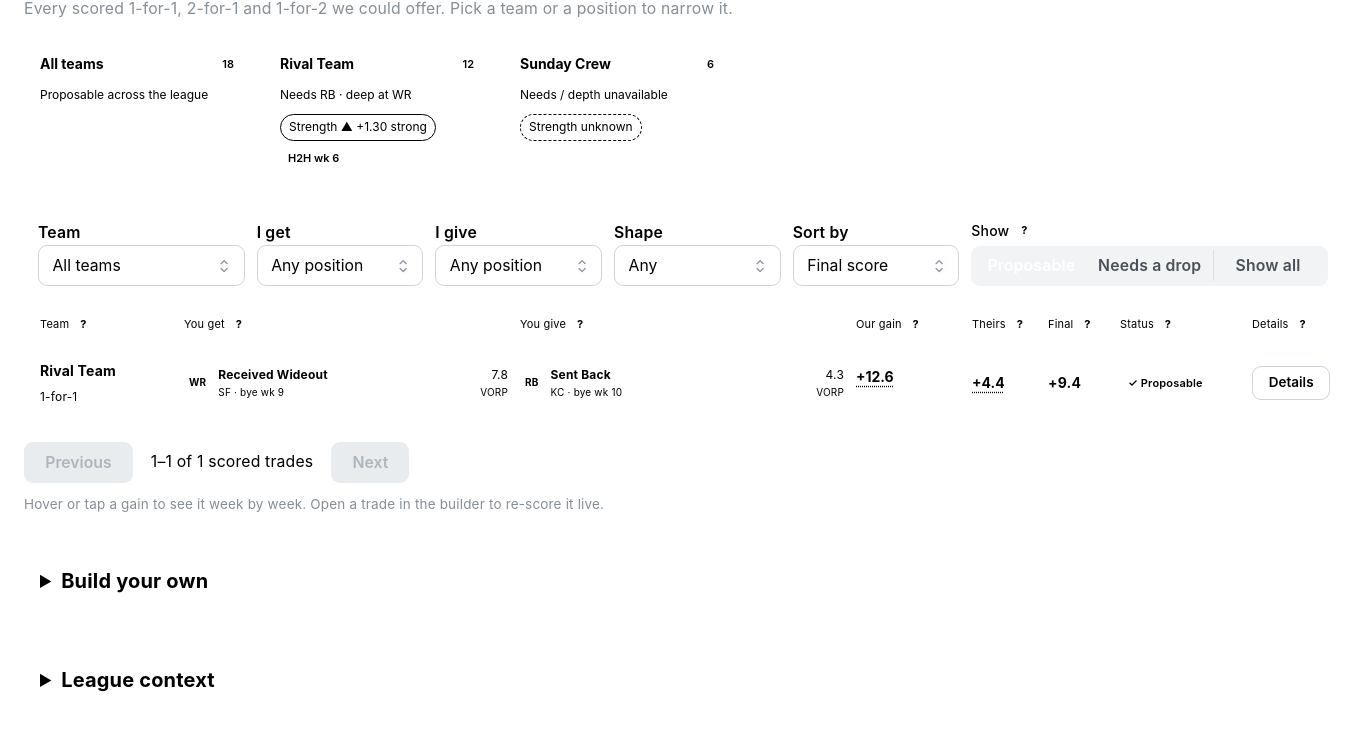
Test: mounts the finder, reports its unfiltered count and expands the collapsed page builder
The width and height of the screenshot is (1366, 739).
(page scrolled)
Click the button "Details": coordinates (1291, 383) x1=1252 y1=366 x2=1330 y2=400
(page scrolled)
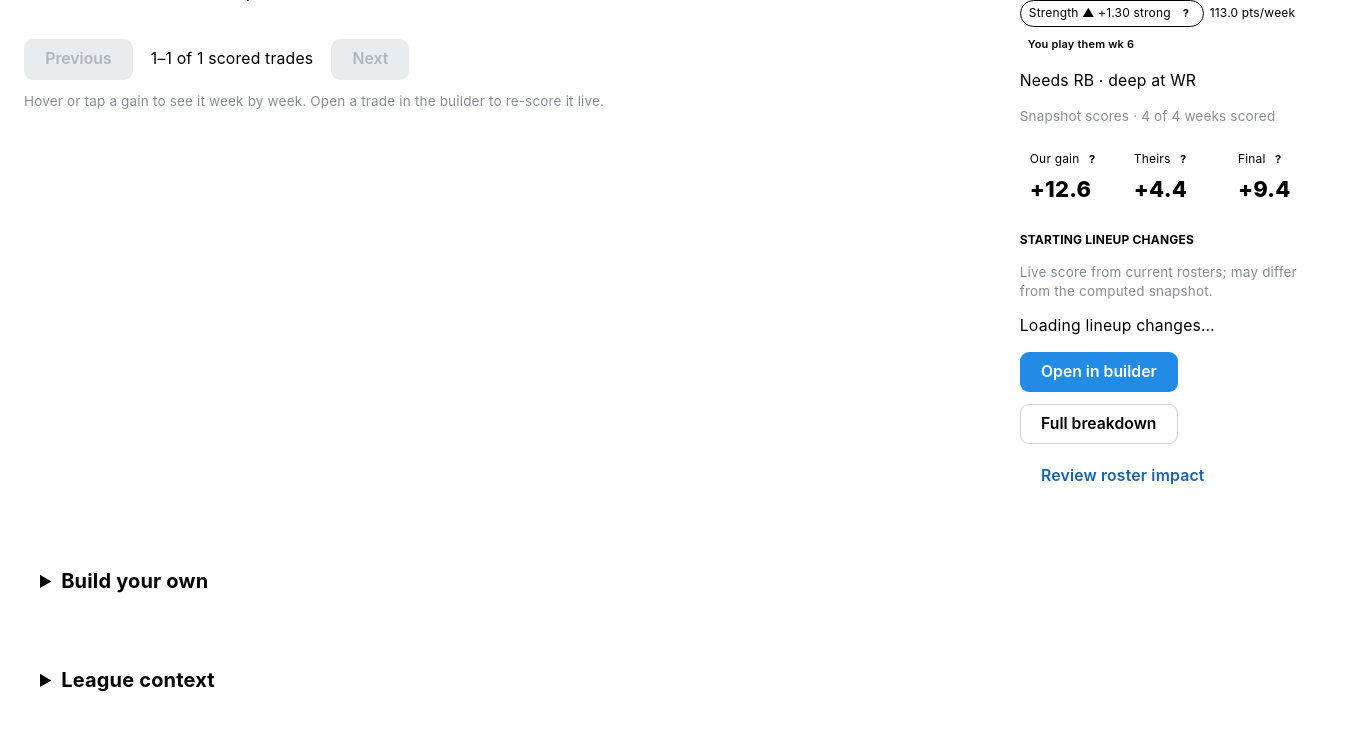
Click the button "Open in builder": coordinates (1099, 372) x1=1020 y1=352 x2=1178 y2=392
(page scrolled)
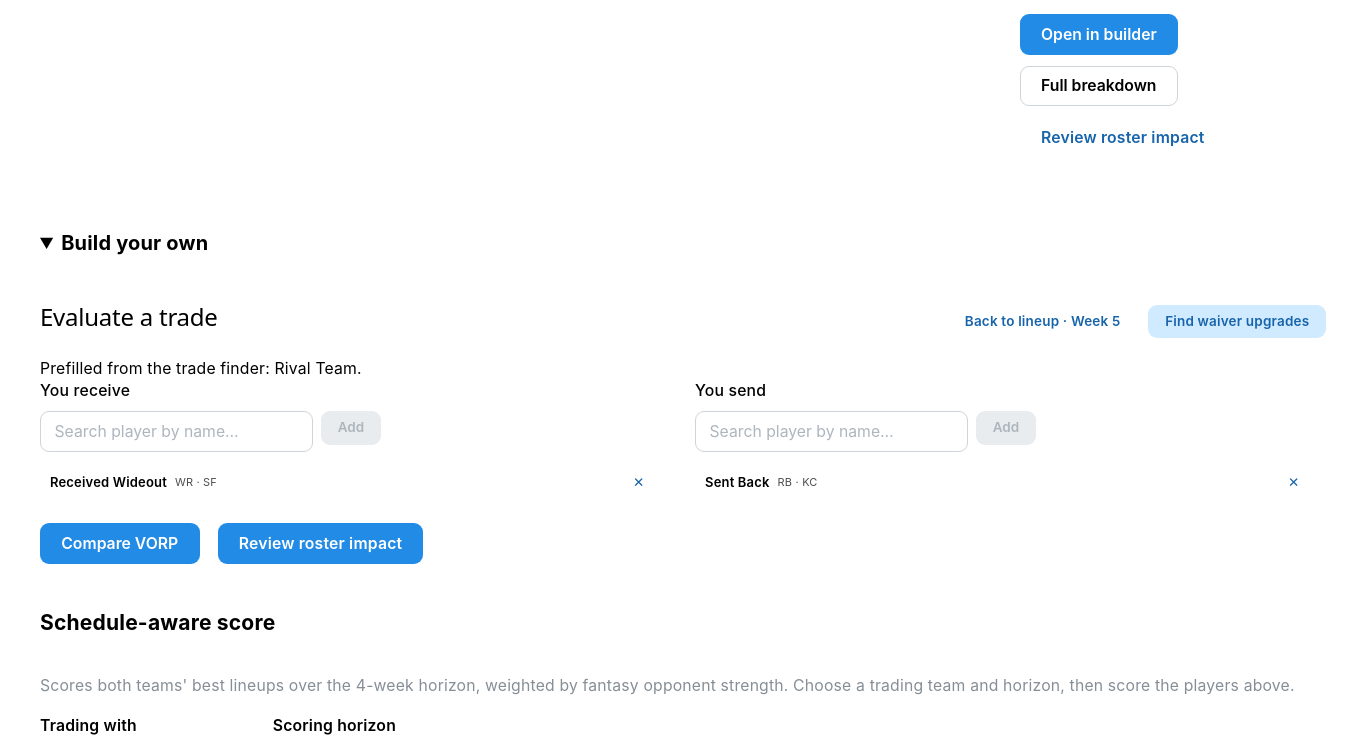
Check: the text "Prefilled from the trade finder: Rival Team." is shown, box x1=40 y1=358 x2=362 y2=378
